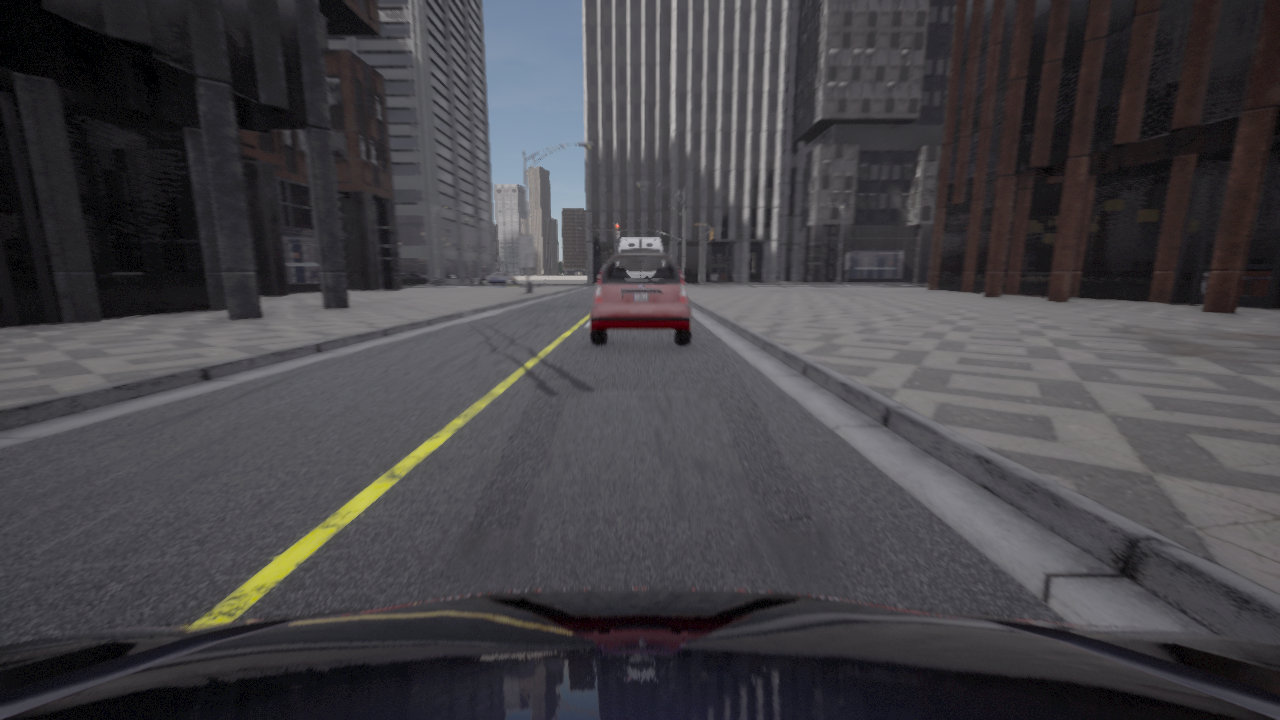cyclist: (0, 588, 1279, 719), (591, 252, 691, 343), (618, 238, 663, 252), (401, 272, 441, 285), (479, 272, 518, 285)
